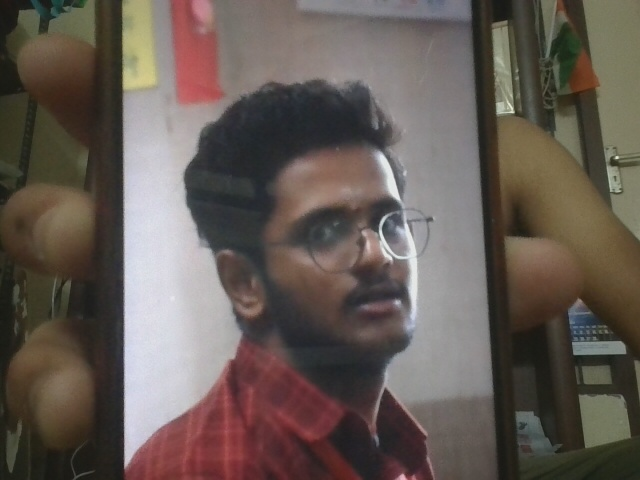fake: (252, 139, 476, 363)
